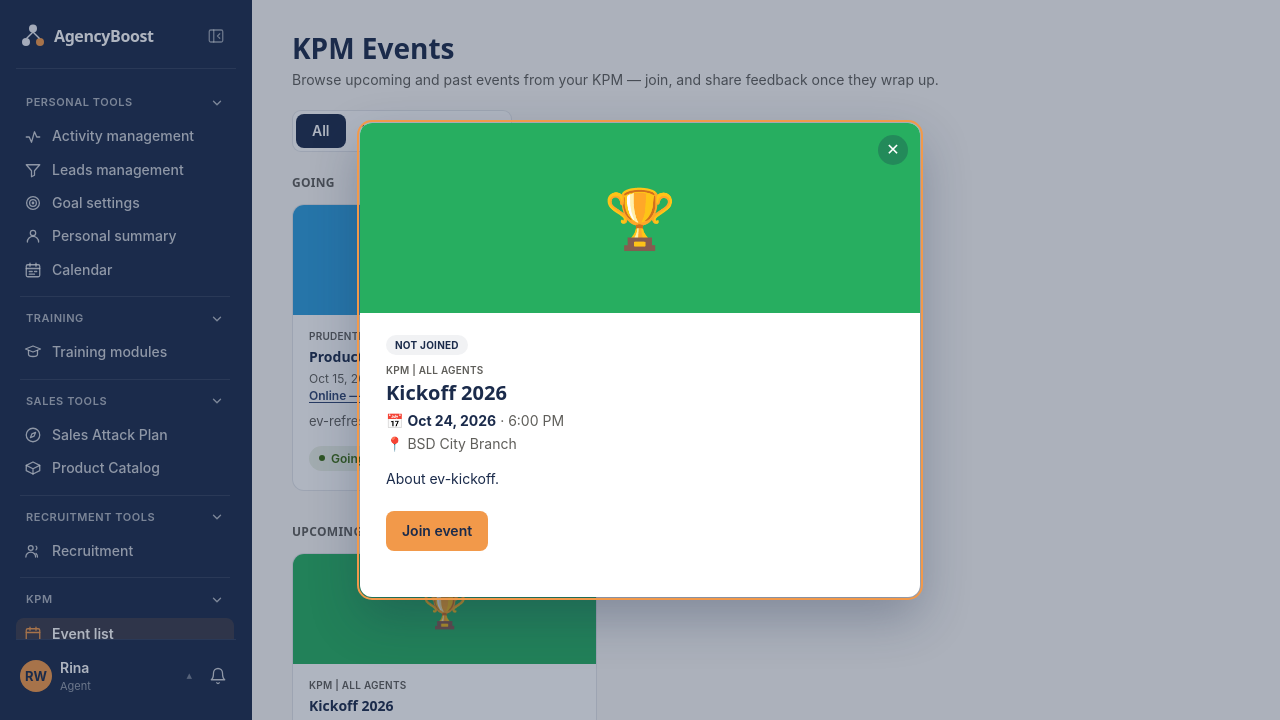
Test: /events, KPM Events (P18.5-T5, T6) › the modal (T5 AC-5) › P18.5-T5 AC-5 Join event → "You're going to {title}", the card moves to Going
Click the button "Join event".
click(437, 531)  # box [386,511,488,551]
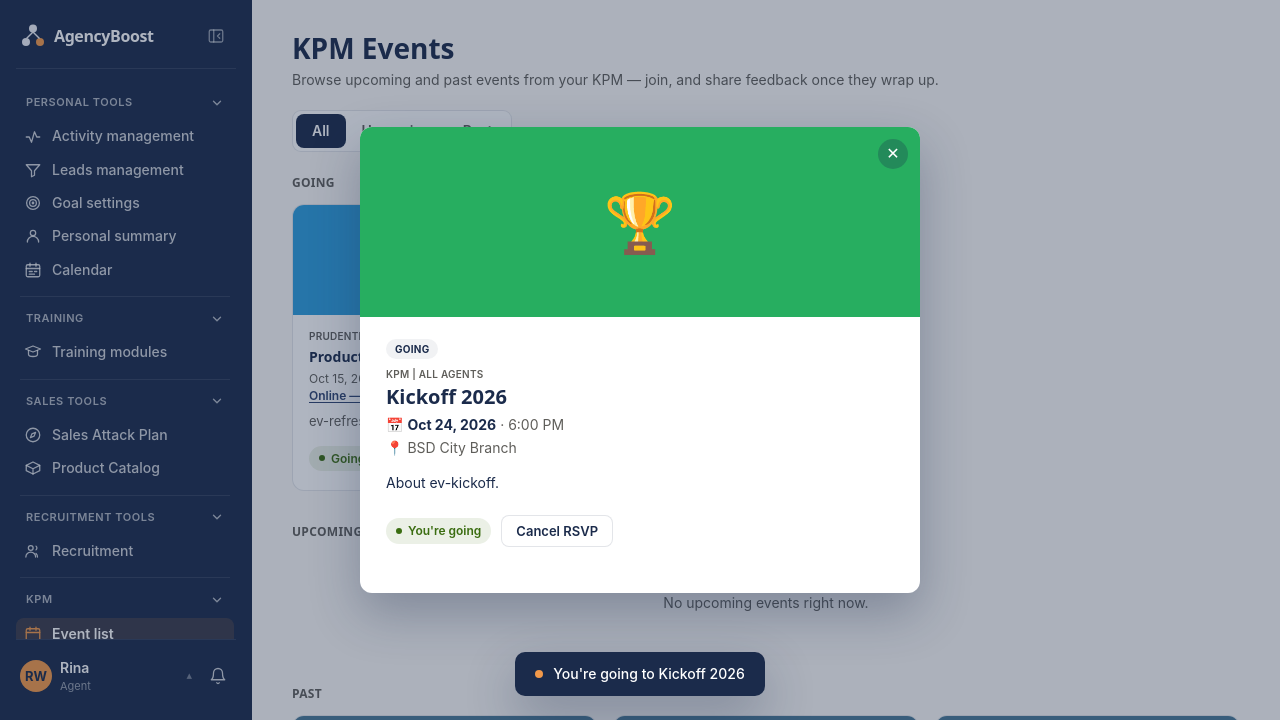
expect the text "You're going to Kickoff 2026" is shown: met, box [515,652,765,696]
expect the text "You're going" is shown: met, box [386,518,491,544]
expect the button "Cancel RSVP" is shown: met, box [501,515,613,547]
